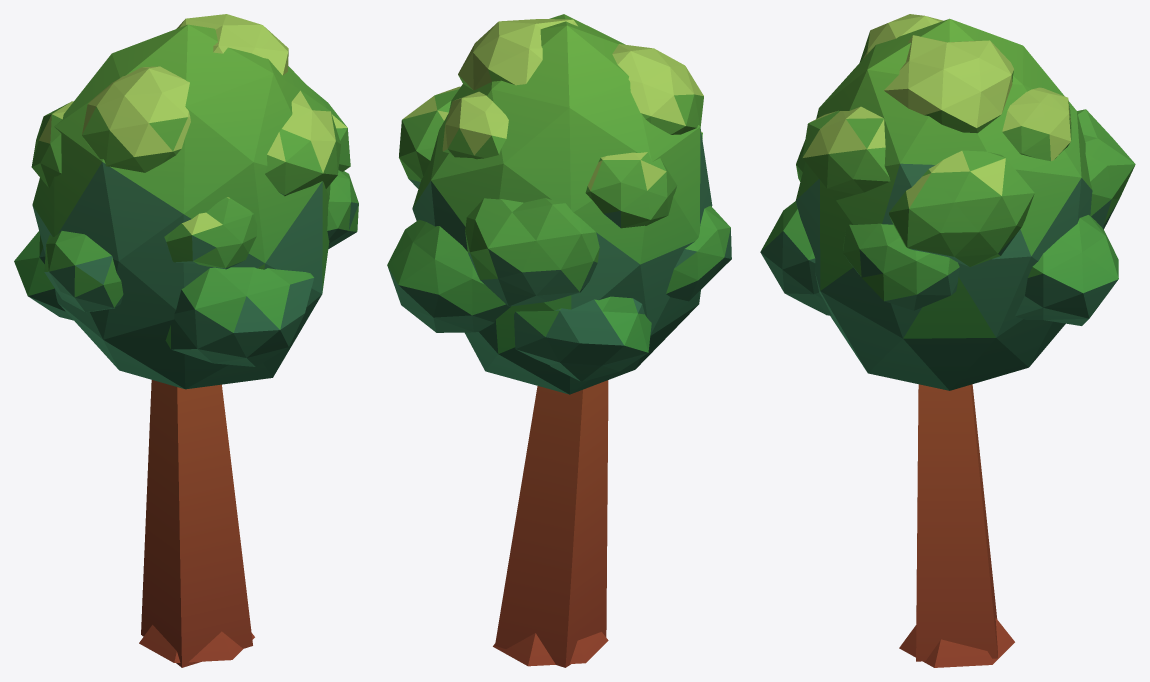
File: leafy_tree_b.gltf
The picture shows the model from 3 angles, left to right: view 1: azimuth 30°, elevation 25°; view 2: azimuth 150°, elevation 25°; view 3: azimuth 270°, elevation 25°; orthographic projection.
Visible parts, largest first — view 1: leafy_tree_b; view 2: leafy_tree_b; view 3: leafy_tree_b.
Part boxes in pixels (bbox=[...]): leafy_tree_b: bbox=[14, 14, 358, 667]; leafy_tree_b: bbox=[387, 14, 731, 667]; leafy_tree_b: bbox=[760, 14, 1135, 667].
Size of the model in its own units: 2.35 by 4.7 by 2.56.
1 material, 1 textured.
